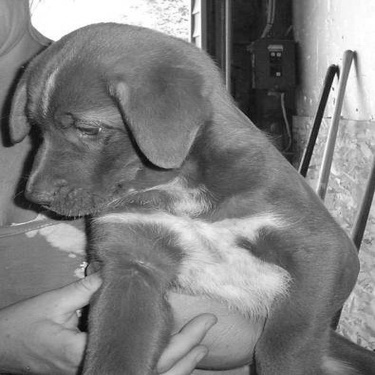dog: (7, 17, 364, 371)
